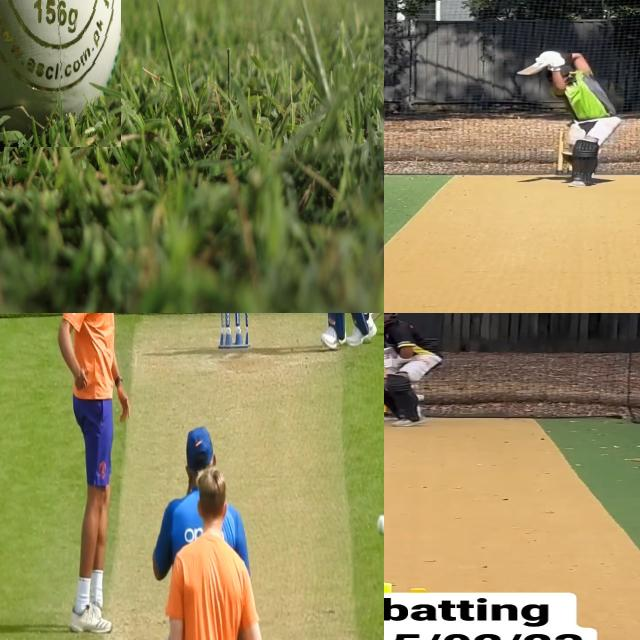Cricket ball: (0, 0, 121, 147), (375, 509, 384, 540)
Stumps: (218, 313, 247, 350)
